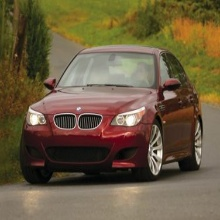no damage: (20, 45, 204, 180)
